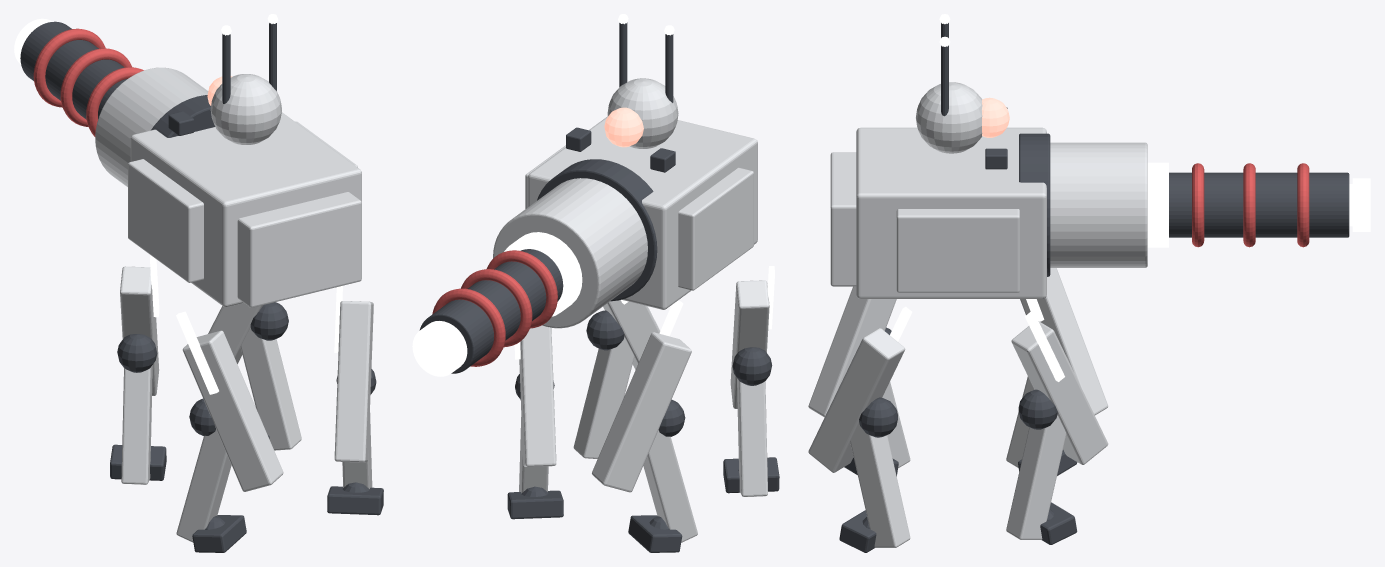
File: CannonL.fbx
3 views of the same model, side by side, from view 1: azimuth 30°, elevation 25°; view 2: azimuth 150°, elevation 25°; view 3: azimuth 270°, elevation 25° (orthographic).
Parts seen in each view (by area): view 1: F_Main_Body_Shell, F_Rear_Housing, H_Leg_Upper_RR, F_Side_Plate_R, D_Cannon_Housing, H_Leg_Upper_RL, I_Leg_Lower_FL, B_Barrel_Outer, L_Sensor_Head, I_Leg_Lower_FR, I_Leg_Lower_RR, H_Leg_Upper_FR (+17 smaller); view 2: F_Main_Body_Shell, D_Cannon_Housing, H_Leg_Upper_FR, F_Side_Plate_R, B_Barrel_Outer, H_Leg_Upper_FL, I_Leg_Lower_RL, D_Housing_Collar, I_Leg_Lower_RR, I_Leg_Lower_FR, L_Sensor_Head, H_Leg_Upper_RR (+18 smaller); view 3: F_Main_Body_Shell, D_Cannon_Housing, F_Side_Plate_L, B_Barrel_Outer, H_Leg_Upper_RL, H_Leg_Upper_FL, I_Leg_Lower_RL, I_Leg_Lower_FL, H_Leg_Upper_RR, L_Sensor_Head, F_Rear_Housing, H_Leg_Upper_FR (+14 smaller).
Part boxes in pixels (x1,y1,x2,y2): F_Main_Body_Shell: (130,112,361,306); F_Rear_Housing: (237,192,361,307); H_Leg_Upper_RR: (182,330,283,491); F_Side_Plate_R: (128,159,203,282); D_Cannon_Housing: (95,67,208,186); H_Leg_Upper_RL: (334,301,373,462); I_Leg_Lower_FL: (240,327,301,450); B_Barrel_Outer: (20,21,126,119); L_Sensor_Head: (210,74,281,144); I_Leg_Lower_FR: (121,365,152,484); I_Leg_Lower_RR: (176,429,231,542); H_Leg_Upper_FR: (120,266,159,395); F_Main_Body_Shell: (528,116,757,309); D_Cannon_Housing: (493,178,647,328); H_Leg_Upper_FR: (592,332,691,492); F_Side_Plate_R: (678,167,753,290); B_Barrel_Outer: (419,249,563,373); H_Leg_Upper_FL: (519,325,556,466); I_Leg_Lower_RL: (573,337,634,458); D_Housing_Collar: (537,159,657,301); I_Leg_Lower_RR: (737,378,767,496); I_Leg_Lower_FR: (643,430,697,542); L_Sensor_Head: (607,78,678,148); H_Leg_Upper_RR: (730,280,769,408); F_Main_Body_Shell: (856,127,1046,298); D_Cannon_Housing: (1050,142,1147,267); F_Side_Plate_L: (896,209,1019,292); B_Barrel_Outer: (1169,172,1349,237); H_Leg_Upper_RL: (808,328,905,472); H_Leg_Upper_FL: (1011,321,1108,464); I_Leg_Lower_RL: (850,423,910,547); I_Leg_Lower_FL: (1006,415,1066,539); H_Leg_Upper_RR: (808,286,896,417); L_Sensor_Head: (916,82,982,153); F_Rear_Housing: (830,152,856,286); H_Leg_Upper_FR: (1020,268,1108,415).
Size of the model in its own units: 103 by 238 by 251.
